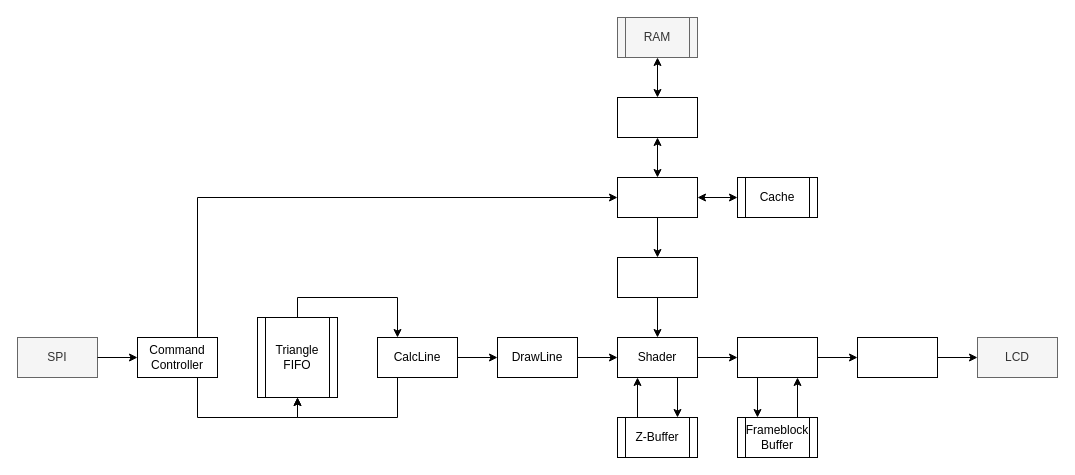
This 1075x475 diagram has some shape labels left out. Each missing label, with the centre of its shape:
"Cache Controller" goes at point 657,197.
"Frameblock Controller" goes at point 777,357.
"LCD Controller" goes at point 897,357.
"Memory Controller" goes at point 657,117.
"Texture Decompress" goes at point 657,277.
